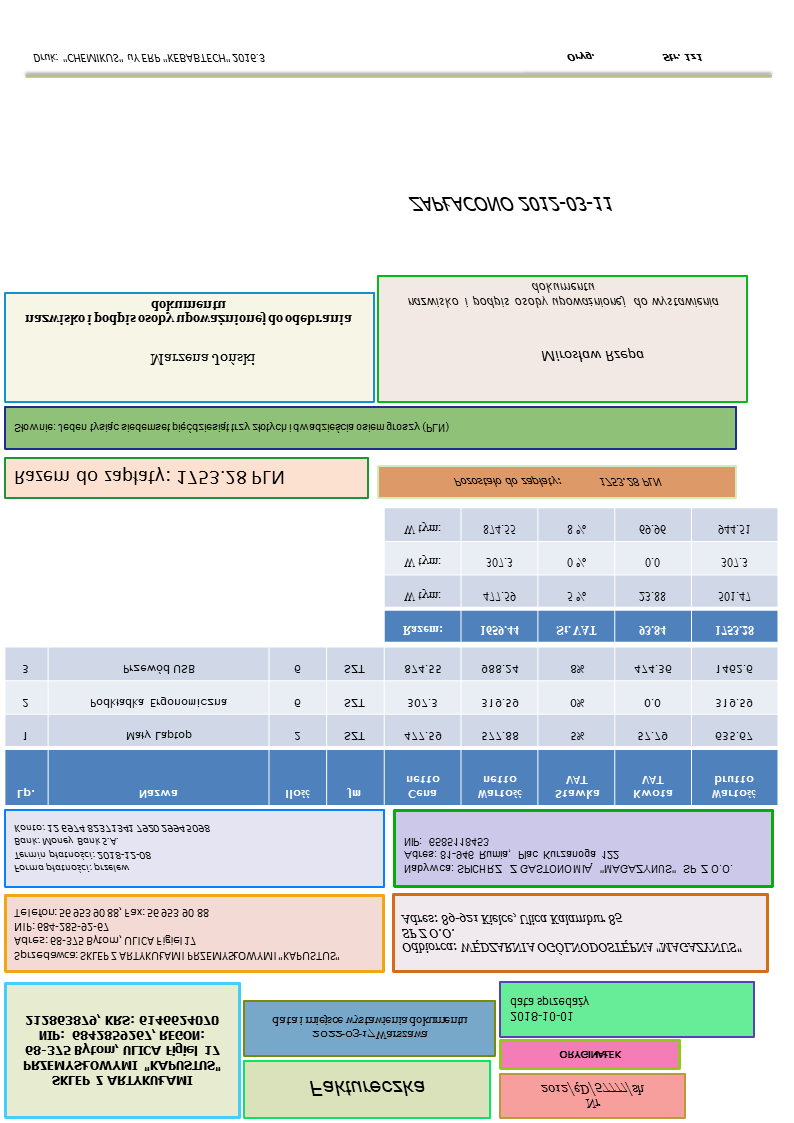Table: (3, 645, 780, 808), (383, 509, 780, 646)
TextBox: (10, 904, 340, 967), (399, 909, 745, 959), (19, 1011, 223, 1092), (402, 834, 734, 878), (11, 821, 213, 877), (22, 297, 354, 329), (404, 280, 721, 313), (10, 418, 453, 437), (10, 465, 286, 491), (269, 1012, 470, 1044), (406, 192, 618, 219), (30, 50, 270, 68), (449, 473, 665, 492), (538, 1079, 646, 1112), (305, 1074, 427, 1102), (507, 994, 589, 1027), (145, 349, 257, 372), (563, 49, 705, 66), (538, 346, 647, 368), (556, 1047, 621, 1064)
